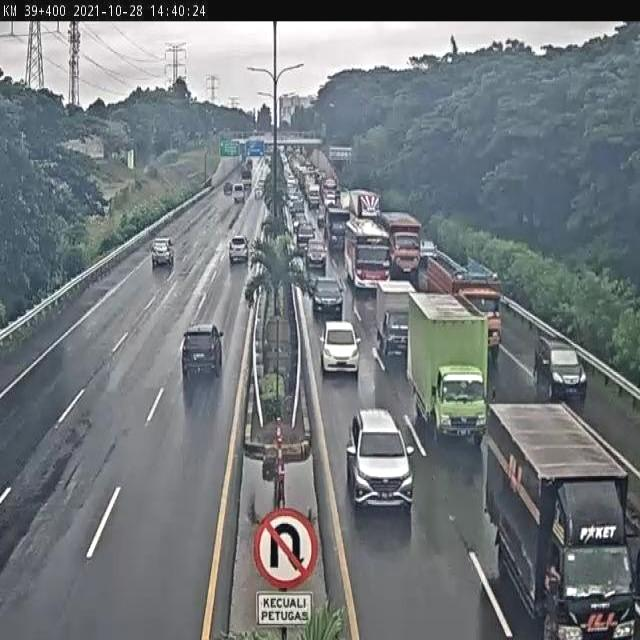Bus: (344, 219, 390, 291)
Car: (345, 408, 415, 520), (534, 332, 586, 400), (180, 322, 224, 381), (319, 319, 361, 379), (310, 276, 344, 319), (151, 238, 174, 270), (304, 239, 327, 270), (230, 236, 250, 266), (419, 238, 438, 264), (296, 224, 316, 248), (323, 192, 336, 208)
Truck: (485, 401, 640, 640), (406, 288, 489, 449), (428, 251, 504, 360), (375, 277, 416, 356), (378, 209, 423, 279), (345, 188, 382, 220), (326, 208, 351, 249), (321, 179, 338, 198), (243, 169, 253, 188)
Van: (308, 185, 321, 211)
